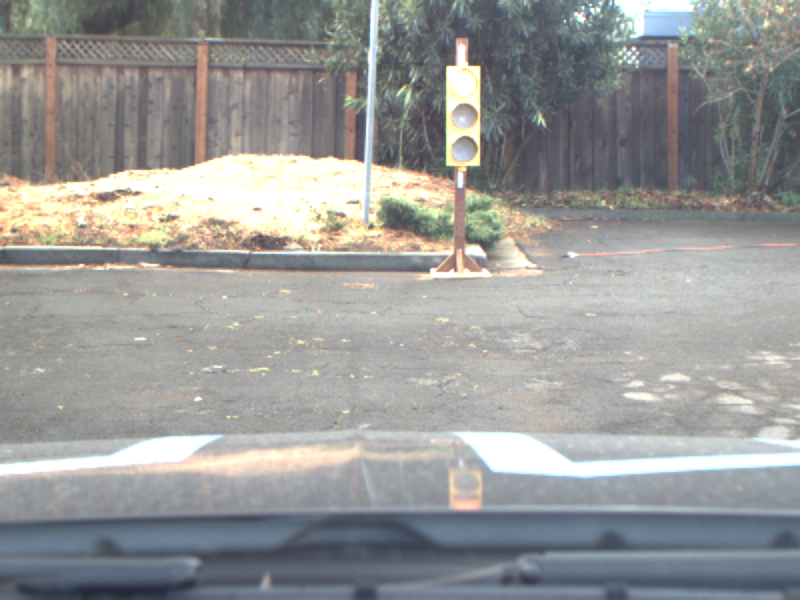Red: (446, 66, 479, 165)
